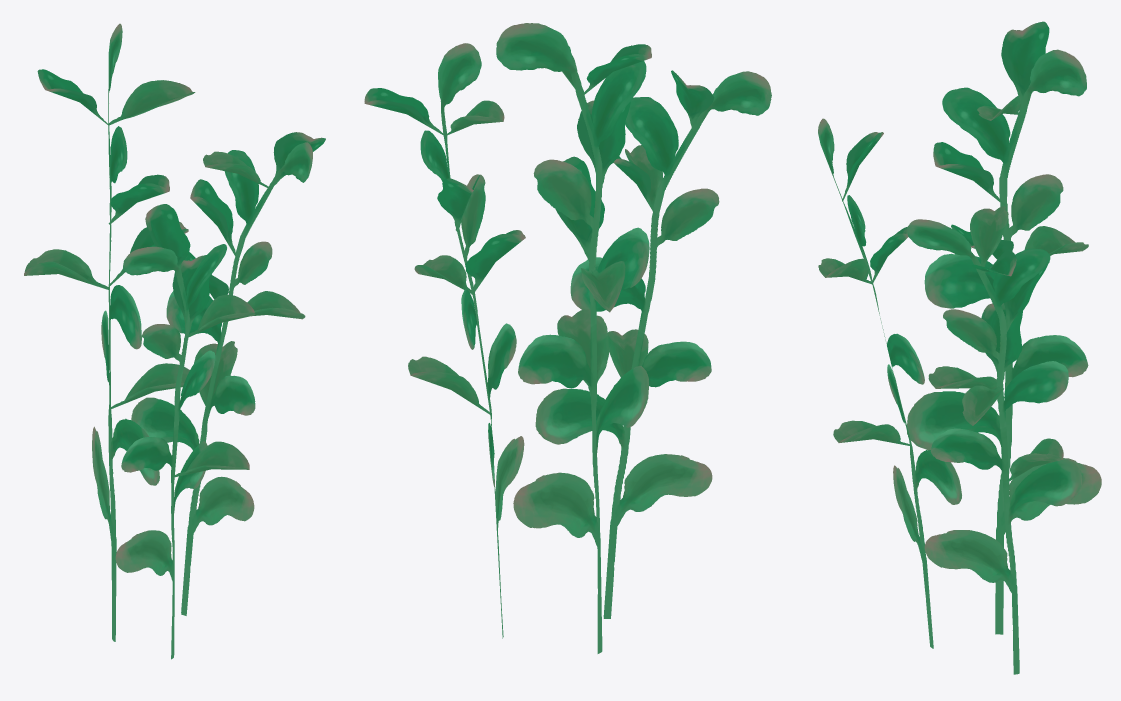
The model's file is MEADOW_SM_Plant_02_02.gltf.
3 renders of one model, left to right at view 1: azimuth 30°, elevation 25°; view 2: azimuth 150°, elevation 25°; view 3: azimuth 270°, elevation 25°, orthographic. The views are drawn at different scales.
Visible parts, largest first — view 1: SM_Plant_02_02_LOD0; view 2: SM_Plant_02_02_LOD0; view 3: SM_Plant_02_02_LOD0.
Boxes of the visible parts, x1,y1,x2,y2 form: SM_Plant_02_02_LOD0: [24, 23, 325, 659]; SM_Plant_02_02_LOD0: [364, 23, 771, 653]; SM_Plant_02_02_LOD0: [818, 21, 1101, 674].
Size of the model in its own units: 0.4413 by 0.849 by 0.3801.
1 material, 1 textured.
